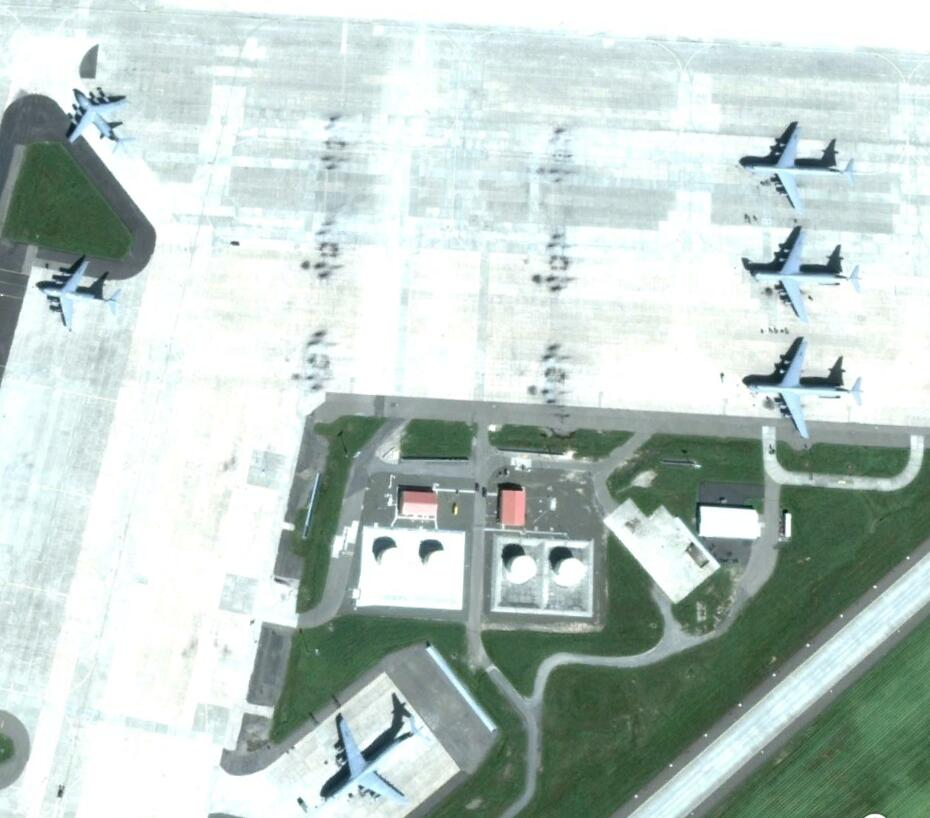A3: (35, 258, 118, 331), (67, 86, 130, 150)
A4: (747, 341, 864, 441), (747, 230, 862, 321), (743, 127, 858, 212), (324, 711, 423, 809)
